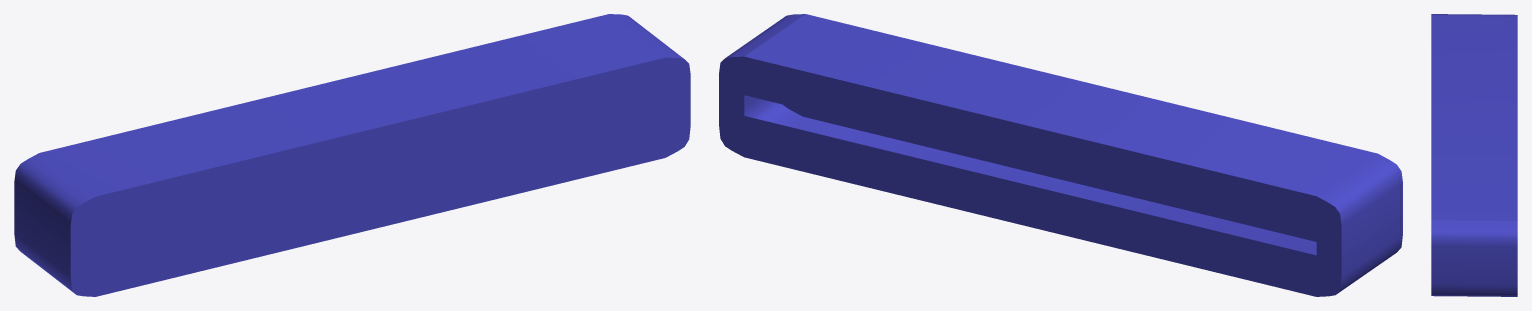
File: boxSlotFrame.fbx
3 views of the same model, side by side, from view 1: azimuth 30°, elevation 25°; view 2: azimuth 150°, elevation 25°; view 3: azimuth 270°, elevation 25° (orthographic). The views are drawn at different scales.
Parts seen in each view (by area): view 1: frame; view 2: frame; view 3: frame.
Part boxes in pixels (x1,y1,x2,y2): frame: (14,14,690,296); frame: (719,14,1402,296); frame: (1431,14,1517,296).
Bounding box in the file's own units: 75.27 × 11.6 × 12.32.
